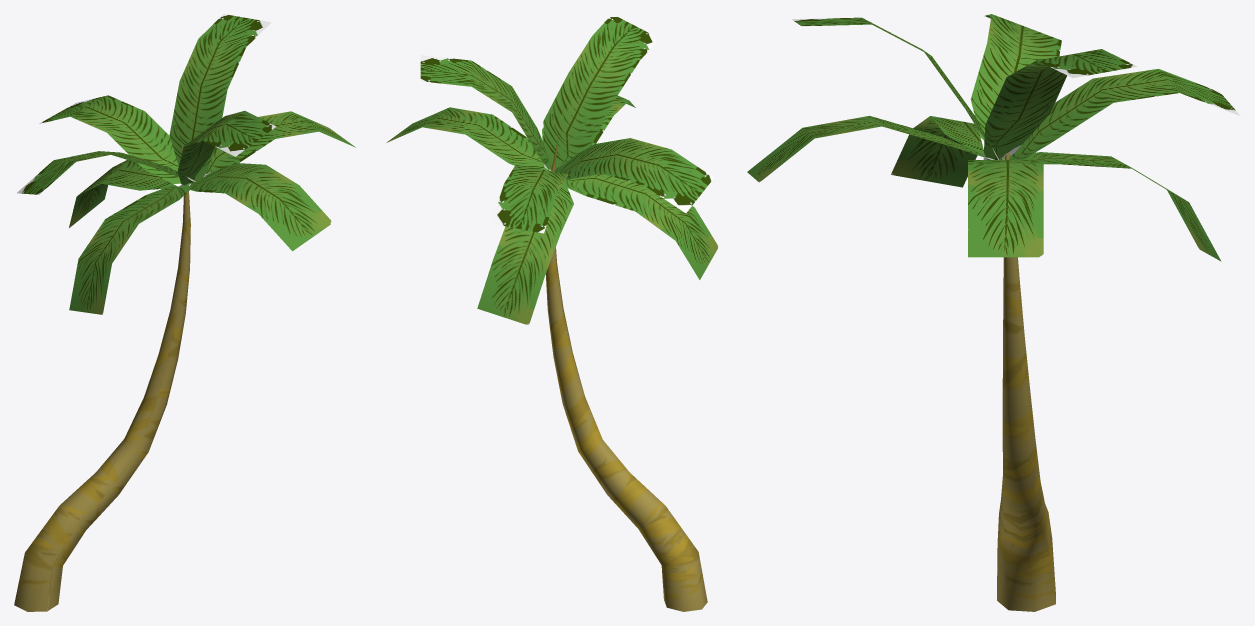
File: Palm_Tree1.fbx
3 views of the same model, side by side, from view 1: azimuth 30°, elevation 25°; view 2: azimuth 150°, elevation 25°; view 3: azimuth 270°, elevation 25° (orthographic). The views are drawn at different scales.
Visible parts, largest first — view 1: palm_tree_1, pPlane7, pPlane2, pPlane3, pPlane8, pPlane6, pPlane4, pPlane1, pPlane5; view 2: palm_tree_1, pPlane6, pPlane4, pPlane5, pPlane3, pPlane1, pPlane8, pPlane7; view 3: palm_tree_1, pPlane1, pPlane7, pPlane8, pPlane5, pPlane3, pPlane2, pPlane4, pPlane6.
Boxes of the visible parts, x1,y1,x2,y2 form: palm_tree_1: [14, 141, 190, 611]; pPlane7: [169, 14, 271, 181]; pPlane2: [189, 163, 332, 251]; pPlane3: [69, 182, 191, 314]; pPlane8: [39, 95, 181, 186]; pPlane6: [177, 110, 276, 186]; pPlane4: [68, 160, 174, 228]; pPlane1: [206, 111, 355, 173]; pPlane5: [17, 151, 195, 194]; palm_tree_1: [545, 135, 707, 611]; pPlane6: [543, 14, 659, 170]; pPlane4: [477, 184, 573, 325]; pPlane5: [554, 138, 713, 213]; pPlane3: [562, 174, 718, 279]; pPlane1: [386, 107, 548, 170]; pPlane8: [491, 164, 574, 233]; pPlane7: [420, 55, 551, 170]; palm_tree_1: [997, 153, 1055, 611]; pPlane1: [968, 160, 1043, 257]; pPlane7: [983, 49, 1136, 159]; pPlane8: [1008, 69, 1240, 159]; pPlane5: [970, 14, 1061, 159]; pPlane3: [891, 116, 983, 187]; pPlane2: [747, 116, 994, 182]; pPlane4: [1023, 152, 1221, 261]; pPlane6: [792, 17, 998, 159].
Size of the model in its own units: 6.63 by 10.09 by 6.55.
